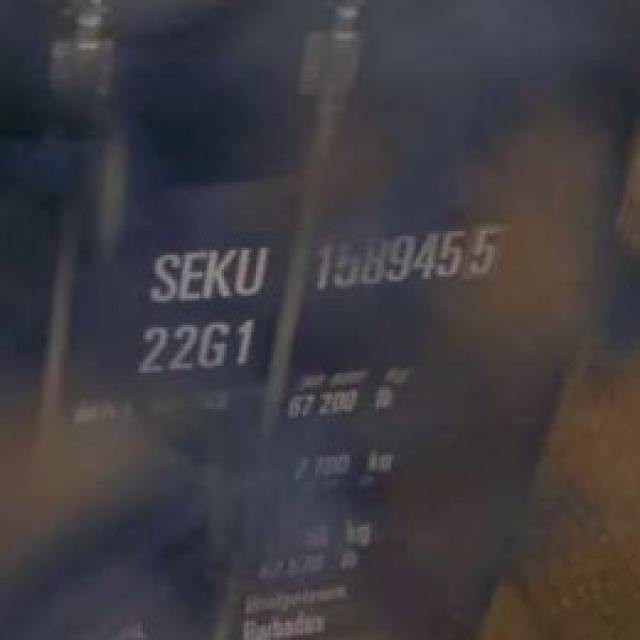dv: (466, 218, 514, 284)
owner: (133, 241, 269, 304)
serial: (310, 222, 466, 294)
size: (132, 313, 258, 379)
